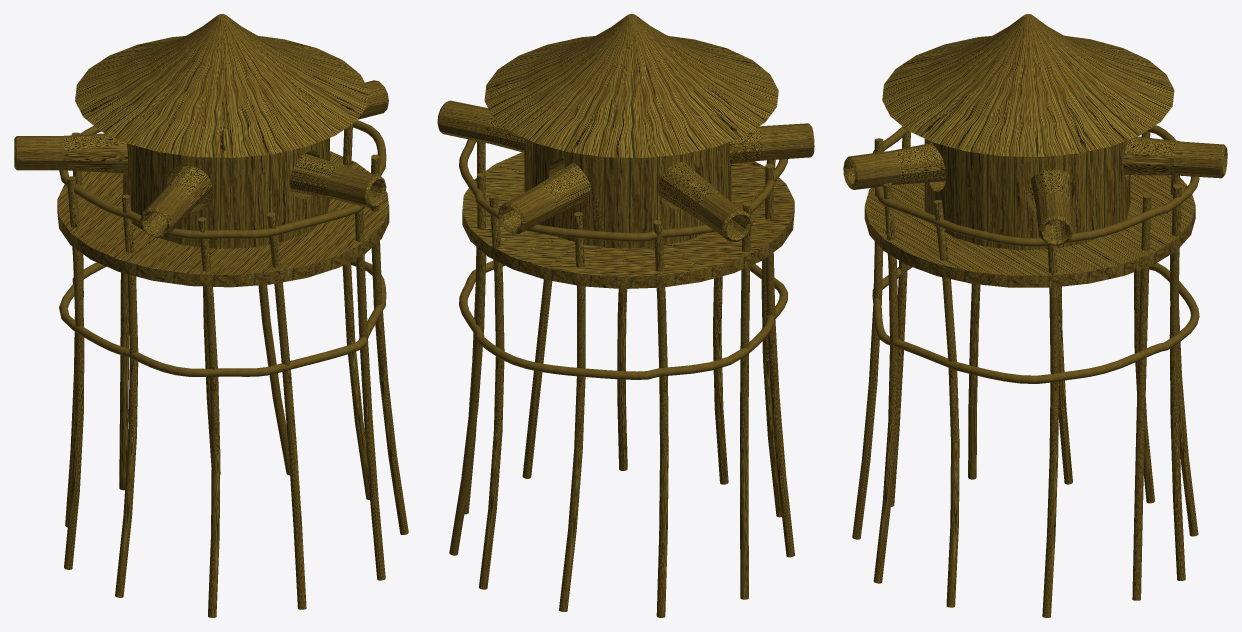
Rendered from tower5.FBX.
The picture shows the model from 3 angles, left to right: view 1: azimuth 30°, elevation 25°; view 2: azimuth 150°, elevation 25°; view 3: azimuth 270°, elevation 25°; orthographic projection.
Parts seen in each view (by area): view 1: tower001; view 2: tower001; view 3: tower001.
Part boxes in pixels (bbox=[...]): tower001: bbox=[14, 14, 408, 617]; tower001: bbox=[437, 14, 814, 617]; tower001: bbox=[843, 14, 1227, 617].
Size of the model in its own units: 1089 by 1650 by 1081.
